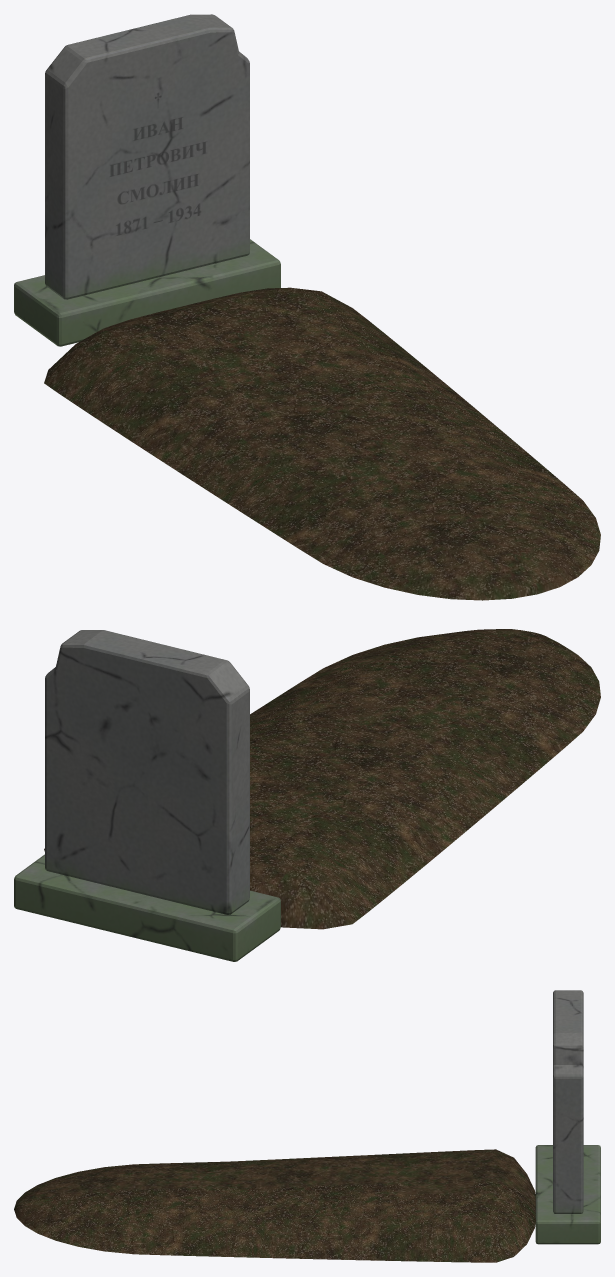
File: gravestone_slab_a.glb
3 renders of one model, top to bottom at view 1: azimuth 30°, elevation 25°; view 2: azimuth 150°, elevation 25°; view 3: azimuth 270°, elevation 25°, orthographic. The views are drawn at different scales.
Visible parts, largest first — view 1: gravestone_slab_a; view 2: gravestone_slab_a; view 3: gravestone_slab_a.
Boxes of the visible parts, bbox=[...] form: gravestone_slab_a: bbox=[14, 14, 600, 600]; gravestone_slab_a: bbox=[14, 629, 600, 961]; gravestone_slab_a: bbox=[14, 990, 600, 1262].
Bounding box in the file's own units: 1.16 × 0.984 × 2.69.
2 materials, 2 textured.
